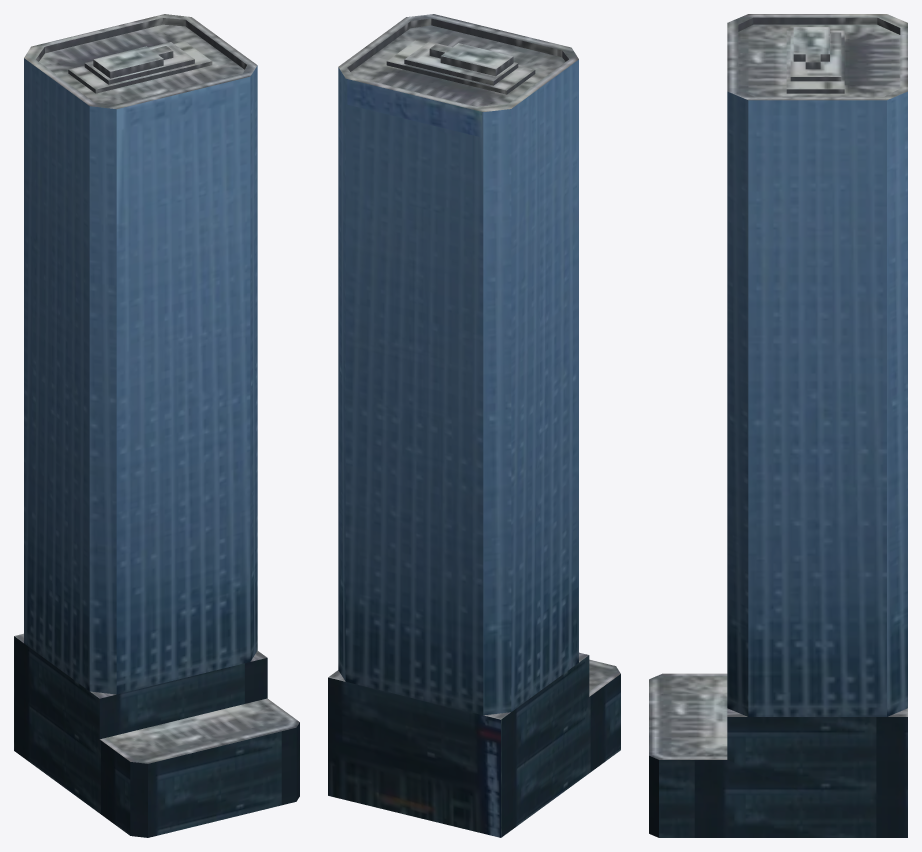
Rendered from modern_international_tower_951612ea.glb.
The picture shows the model from 3 angles, left to right: view 1: azimuth 30°, elevation 25°; view 2: azimuth 150°, elevation 25°; view 3: azimuth 270°, elevation 25°; orthographic projection. The views are drawn at different scales.
Parts seen in each view (by area): view 1: modern_international_tower_951612ea; view 2: modern_international_tower_951612ea; view 3: modern_international_tower_951612ea.
Boxes of the visible parts, left/top/right/bottom form: modern_international_tower_951612ea: left=14, top=14, right=299, bottom=837; modern_international_tower_951612ea: left=328, top=14, right=620, bottom=837; modern_international_tower_951612ea: left=649, top=14, right=907, bottom=837.
Size of the model in its own units: 45.02 by 182 by 57.06.
1 material, 1 textured.
